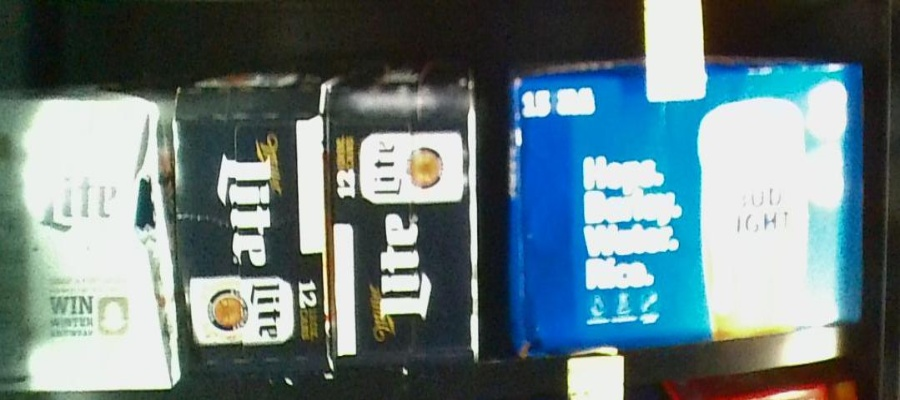bottle: (510, 58, 867, 336), (1, 93, 179, 389), (180, 80, 327, 368), (329, 78, 476, 355)
